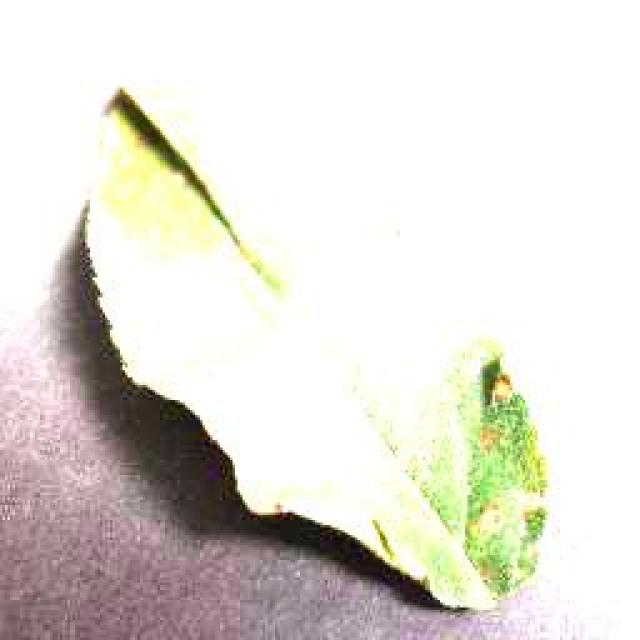apple rust disease: (75, 82, 550, 612)
